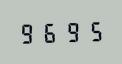five: (81, 19, 101, 42)
nine: (18, 21, 38, 44), (60, 20, 80, 43)
six: (39, 20, 59, 44)
